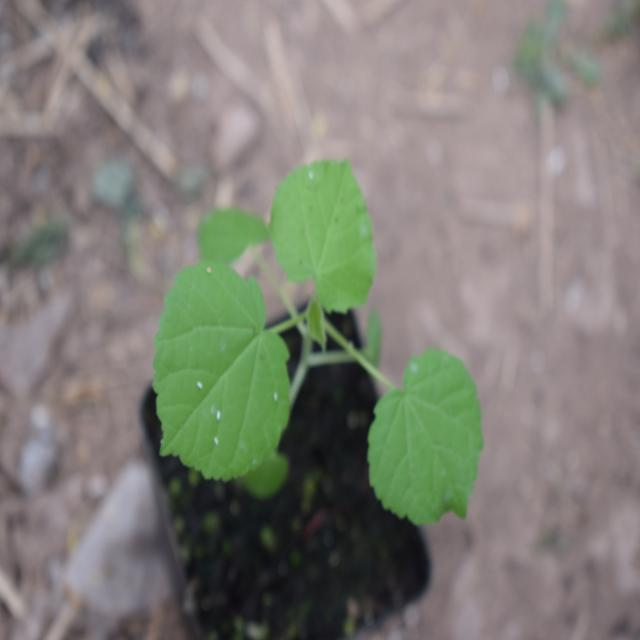abutilon theophrasti: (142, 145, 468, 542)
